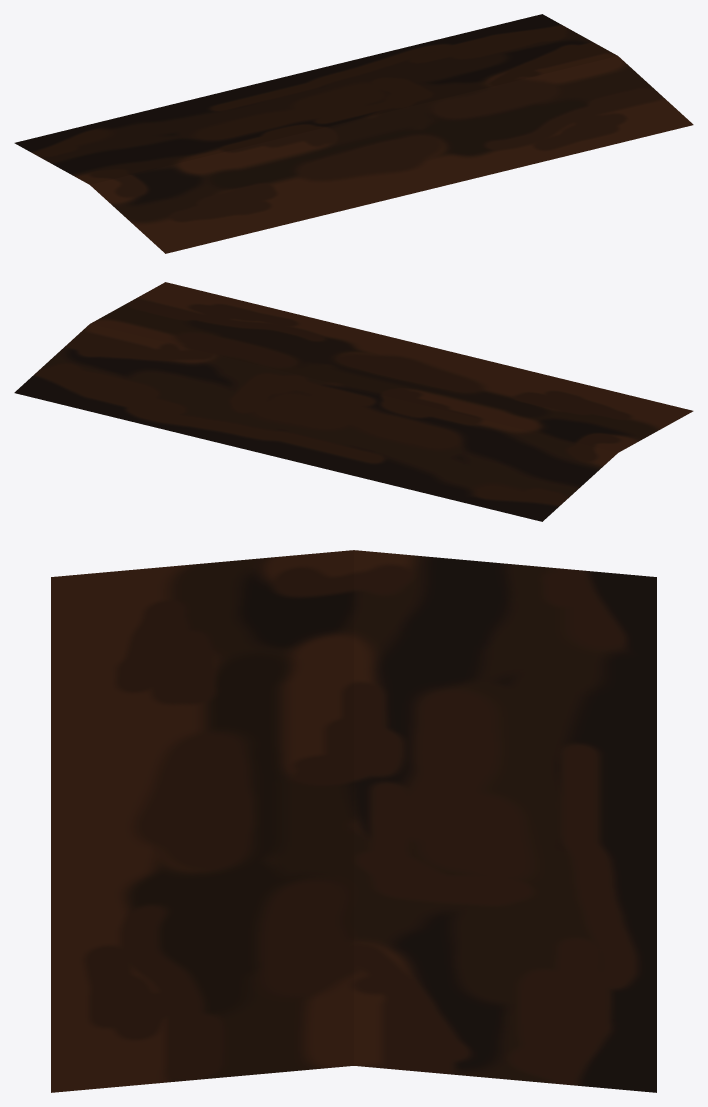
File: steep_tile.fbx
3 renders of one model, top to bottom at view 1: azimuth 30°, elevation 25°; view 2: azimuth 150°, elevation 25°; view 3: azimuth 270°, elevation 25°, orthographic. The views are drawn at different scales.
Visible parts, largest first — view 1: Cylinder.001; view 2: Cylinder.001; view 3: Cylinder.001.
Part boxes in pixels (box(x1,y1,x2,y2)): Cylinder.001: box(14, 14, 693, 253); Cylinder.001: box(14, 282, 693, 521); Cylinder.001: box(51, 550, 656, 1092).
Size of the model in its own units: 99.36 by 200 by 4.89.
Materials: 1 (1 with a texture image).
